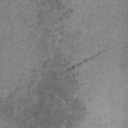finishing roll printing: (66, 48, 109, 71)
